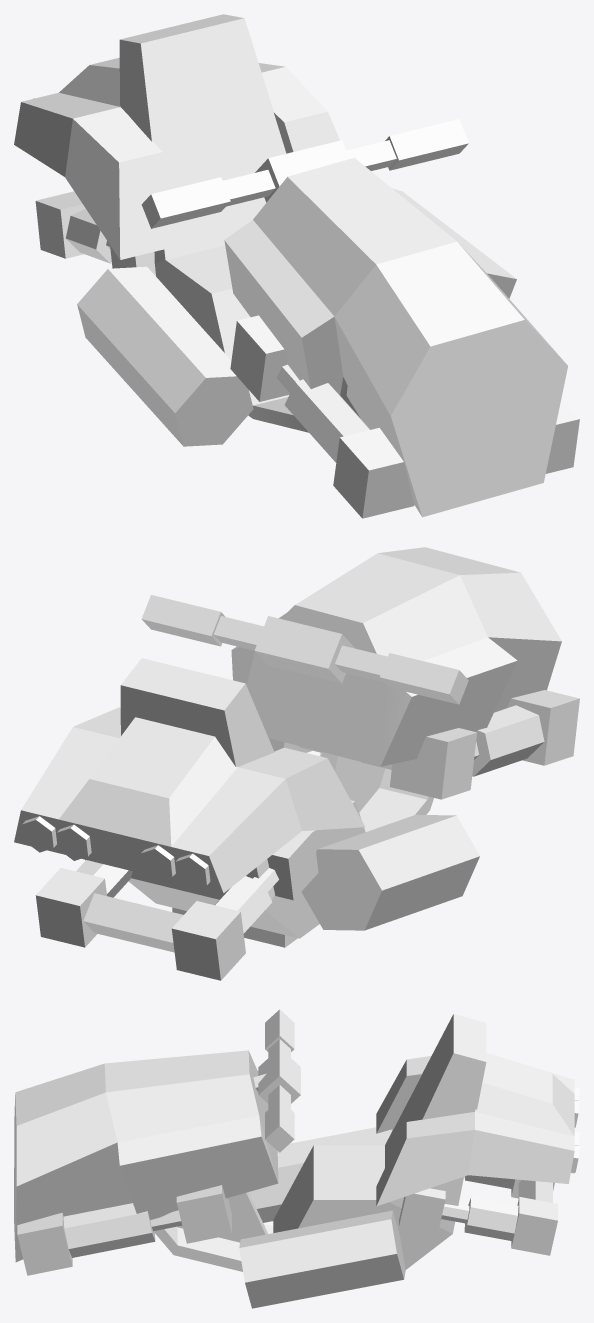
File: Bike 4 Body.glb
3 renders of one model, top to bottom at view 1: azimuth 30°, elevation 25°; view 2: azimuth 150°, elevation 25°; view 3: azimuth 270°, elevation 25°, orthographic. The views are drawn at different scales.
Parts seen in each view (by area): view 1: body, interior; view 2: body, interior; view 3: body, interior.
Boxes of the visible parts, x1,y1,x2,y2 form: body: (14,57,567,517); interior: (35,14,579,518); body: (14,547,561,947); interior: (35,595,579,980); body: (14,1050,579,1308); interior: (17,1009,557,1275).
Bounding box in the file's own units: 1.88 × 1.72 × 3.86.
1 material, 1 textured.
